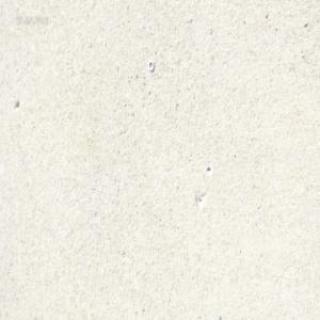Washertrack_idkeyframe: (147, 59, 154, 70)
